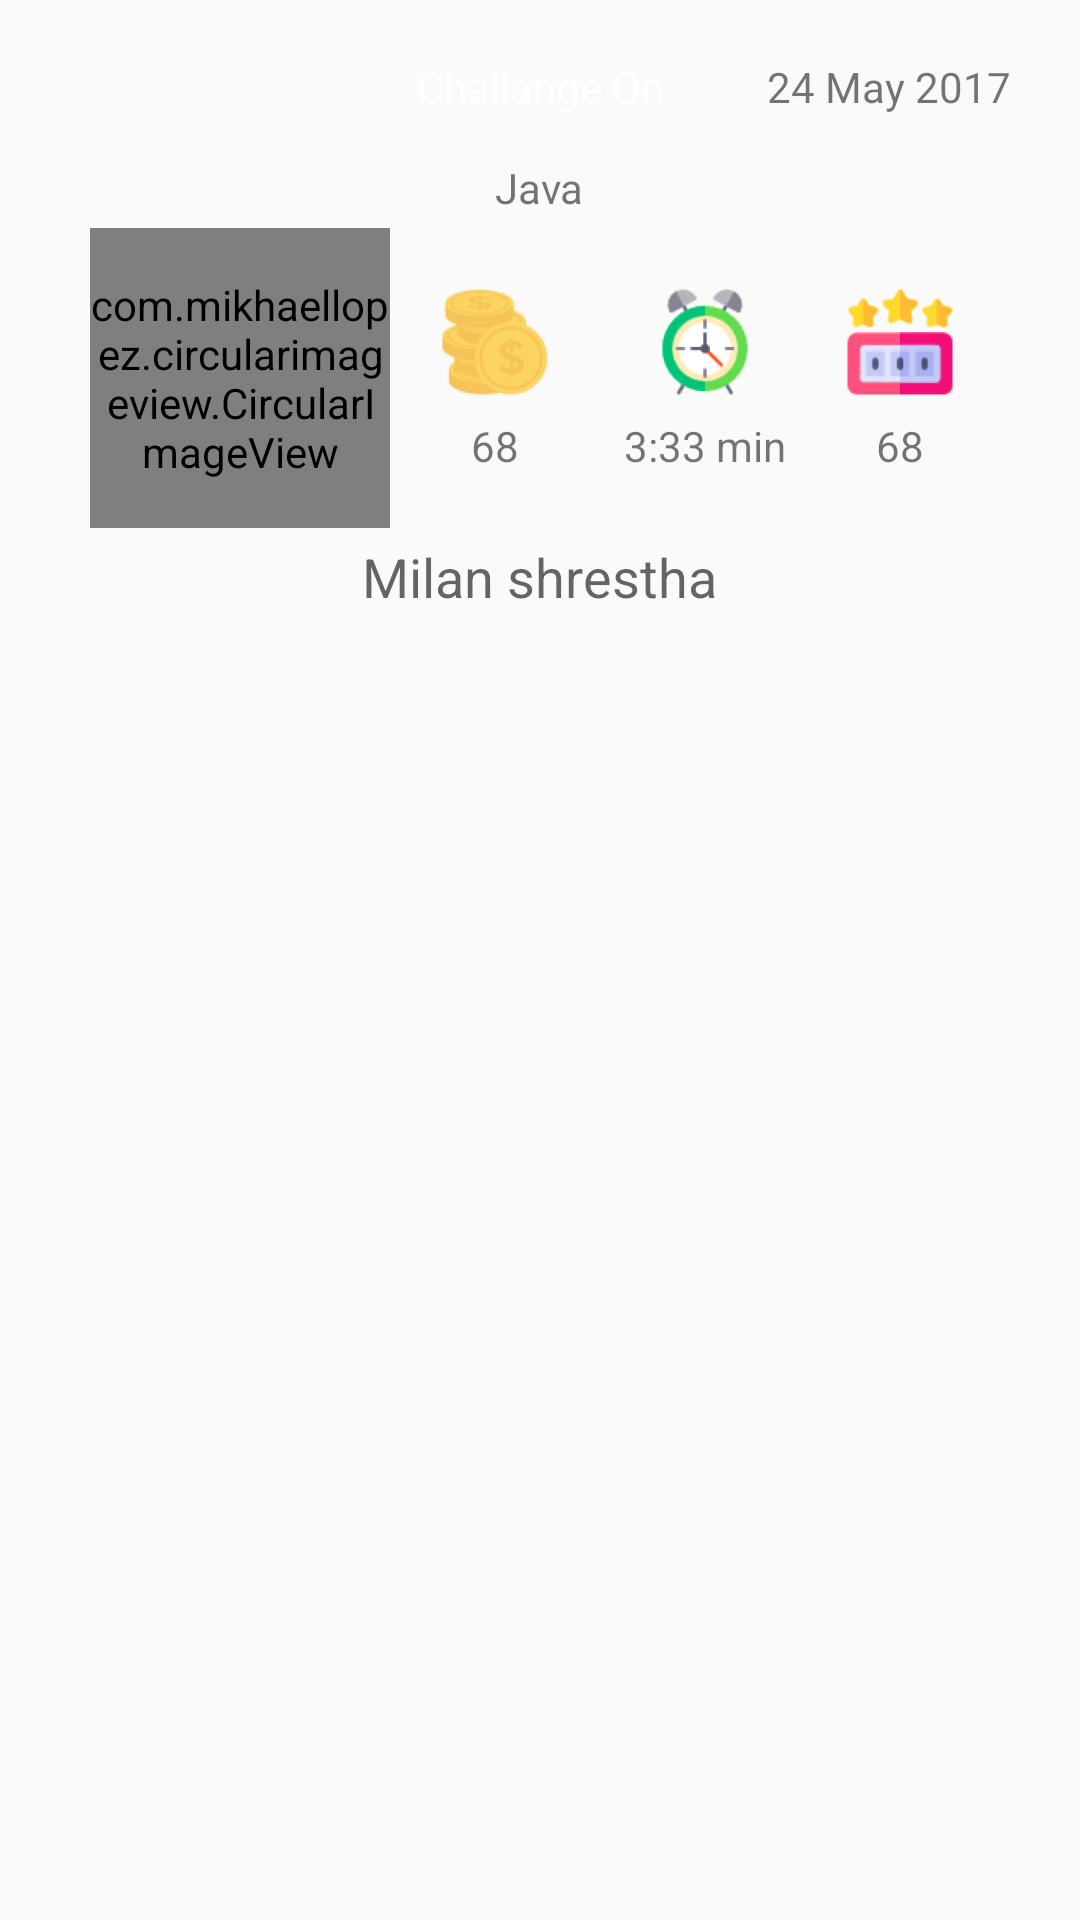

Icon bounding boxes for this 1080×1920 phone screenshot, format [left=x1, top=y1, right=x2, bottom=y2]:
coines: [left=442, top=289, right=548, bottom=395]
points: [left=847, top=289, right=953, bottom=395]
timer: [left=662, top=289, right=748, bottom=395]
